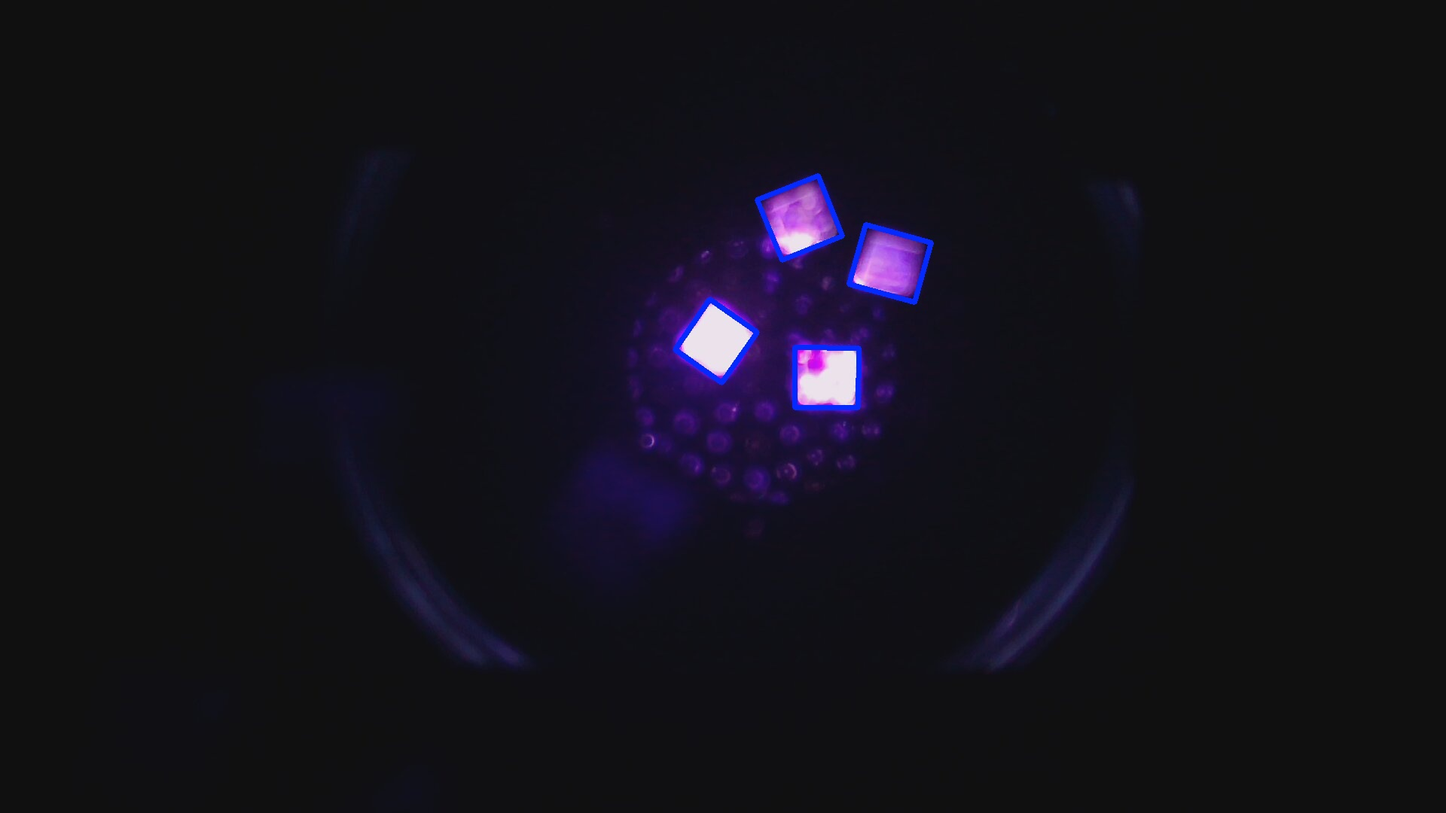plastic: (757, 175, 843, 261), (675, 298, 758, 382), (848, 224, 932, 303), (795, 347, 859, 408)
